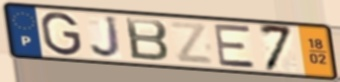7: (259, 22, 296, 73)
B: (123, 16, 171, 63)
E: (212, 24, 259, 70)
G: (39, 11, 84, 57)
J: (89, 14, 125, 60)
Z: (168, 20, 217, 67)
